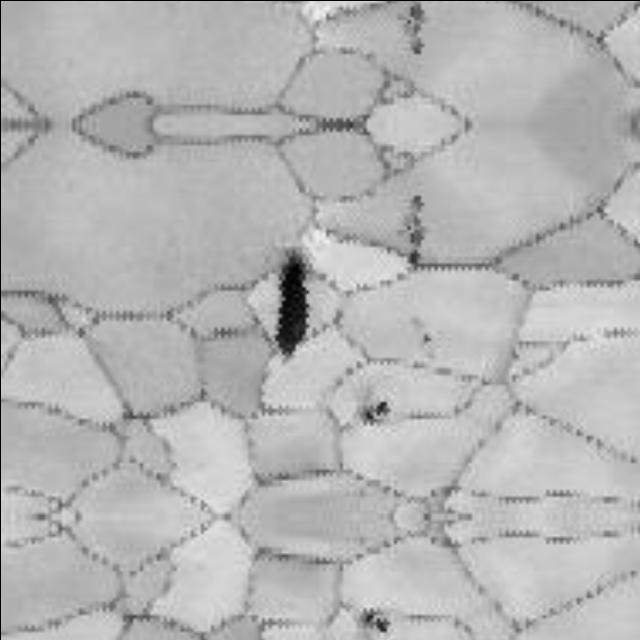good_void: (272, 248, 314, 357), (352, 391, 395, 434), (395, 197, 430, 247), (395, 1, 430, 51), (352, 600, 395, 640), (400, 248, 423, 275), (417, 328, 437, 345)
